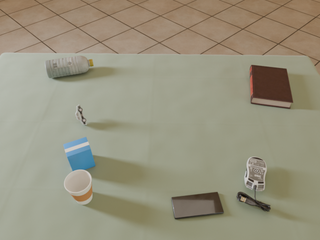book: (250, 65, 293, 109)
bottle: (45, 56, 93, 78)
box: (64, 137, 95, 171)
cup: (64, 169, 92, 205)
mouse: (245, 157, 267, 191)
phone: (171, 192, 224, 219)
toy_car: (76, 105, 87, 125)
